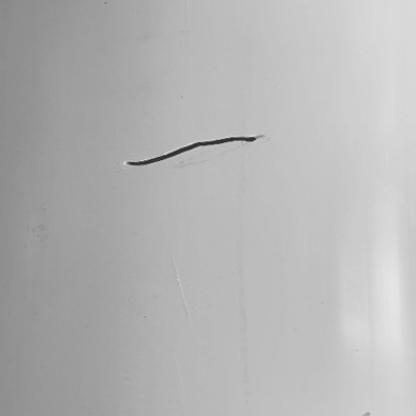fengxi: (119, 134, 265, 168)
